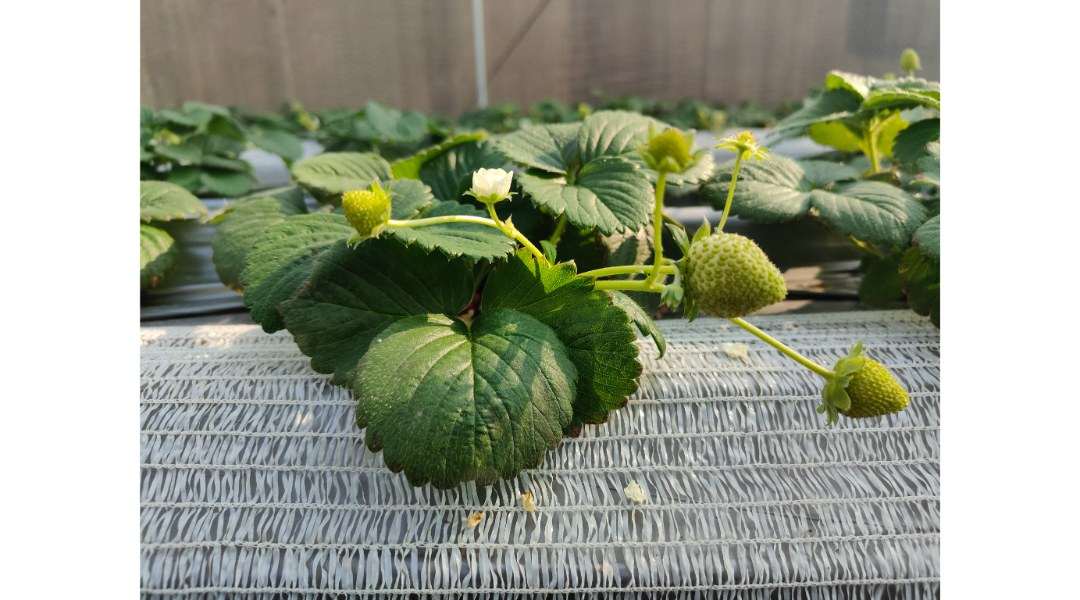berry: (671, 215, 800, 331), (819, 332, 912, 440), (613, 108, 722, 188), (329, 186, 401, 241), (725, 113, 784, 168)
flower: (454, 158, 517, 218)
strain: (743, 322, 845, 388), (645, 167, 683, 289), (713, 155, 747, 238), (387, 211, 496, 229), (581, 249, 645, 277)
